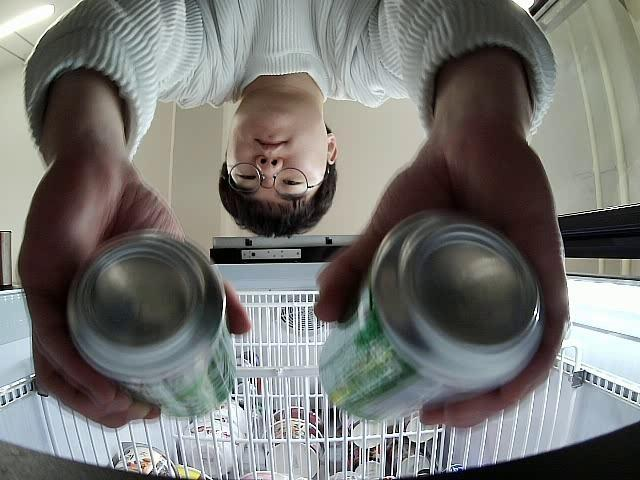12_chilsungCider: (318, 210, 545, 426), (64, 233, 238, 422)
